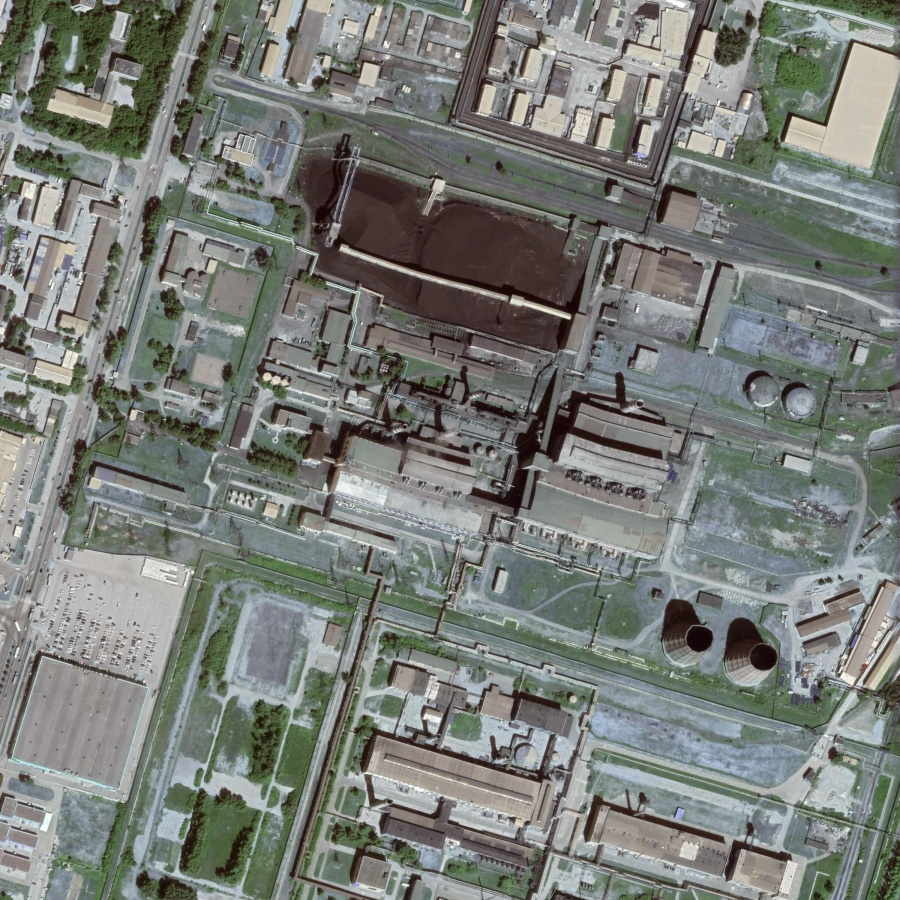PowerPlant: (280, 130, 838, 699)
